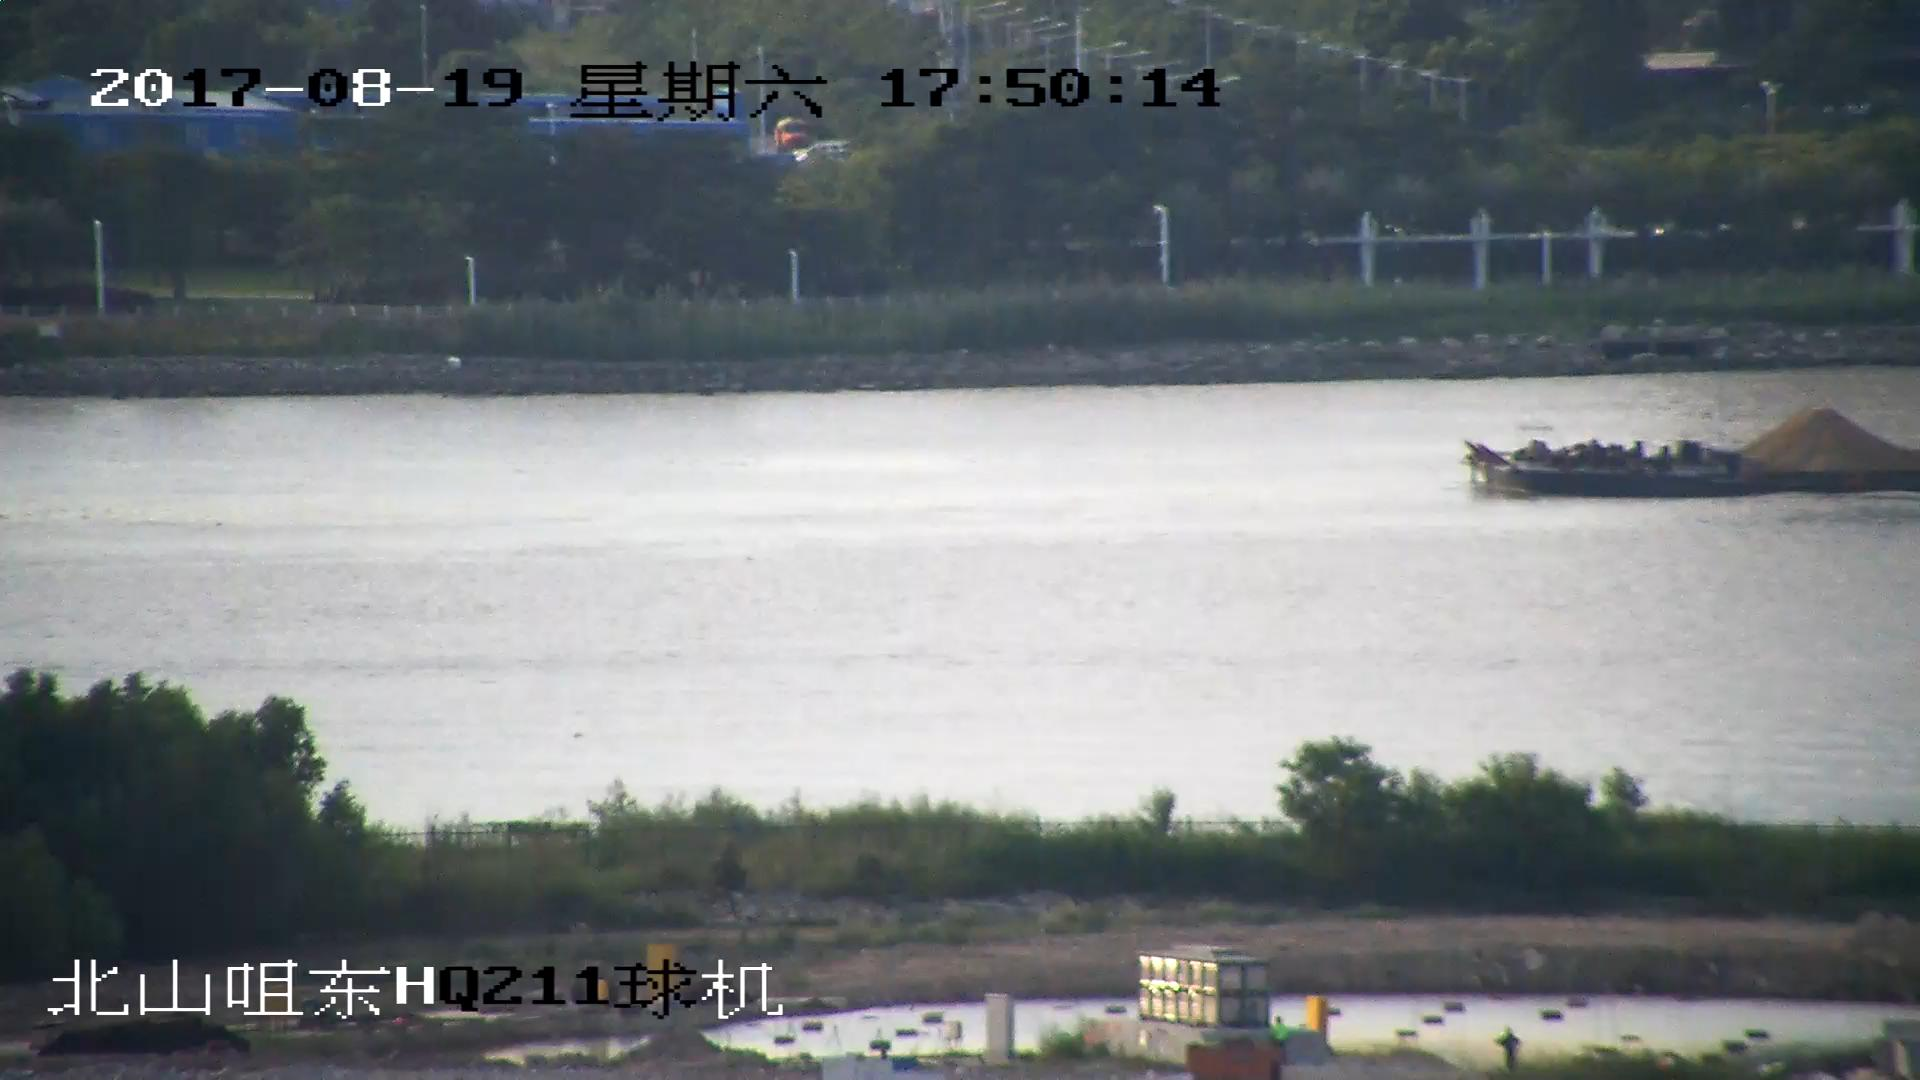ore carrier: (1462, 406, 1920, 501)
